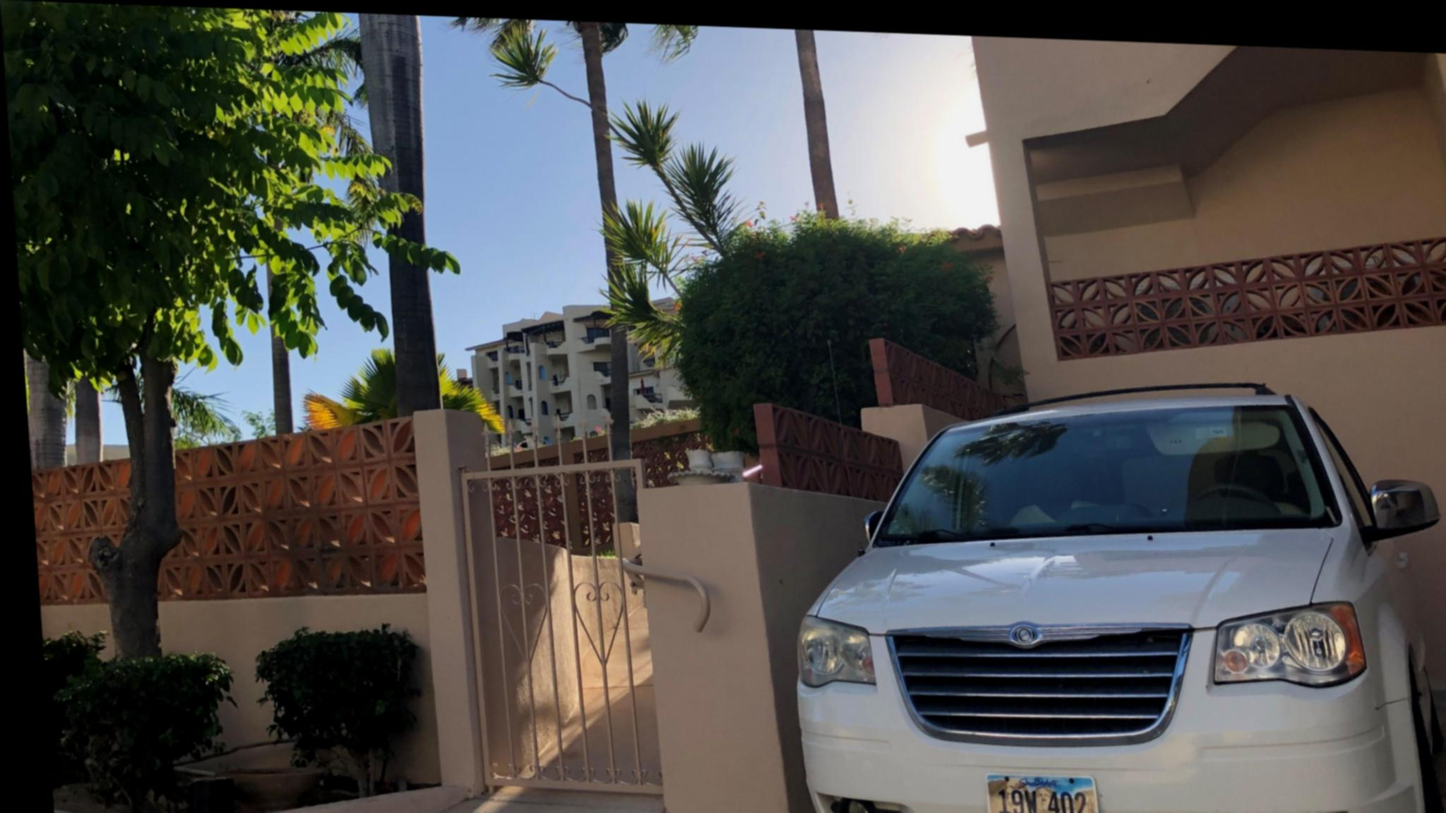License_Plate: (988, 778, 1100, 813)
